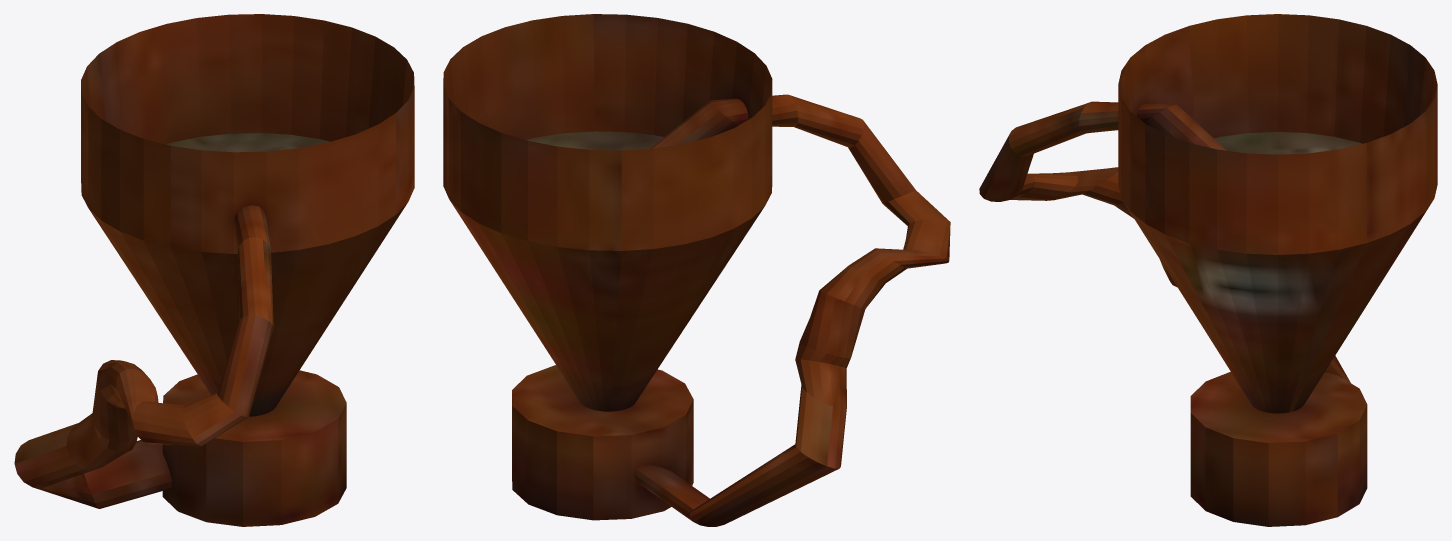
Rendered from fertilization machine.fbx.
3 views of the same model, side by side, from view 1: azimuth 30°, elevation 25°; view 2: azimuth 150°, elevation 25°; view 3: azimuth 270°, elevation 25° (orthographic).
Parts seen in each view (by area): view 1: fertilization machine; view 2: fertilization machine; view 3: fertilization machine.
Boxes of the visible parts, x1,y1,x2,y2 form: fertilization machine: (14,14,414,526); fertilization machine: (443,14,950,526); fertilization machine: (979,14,1437,526).
Size of the model in its own units: 425 by 439 by 455.
